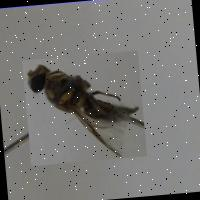Oriental-fruit-fly: (22, 50, 147, 166)
